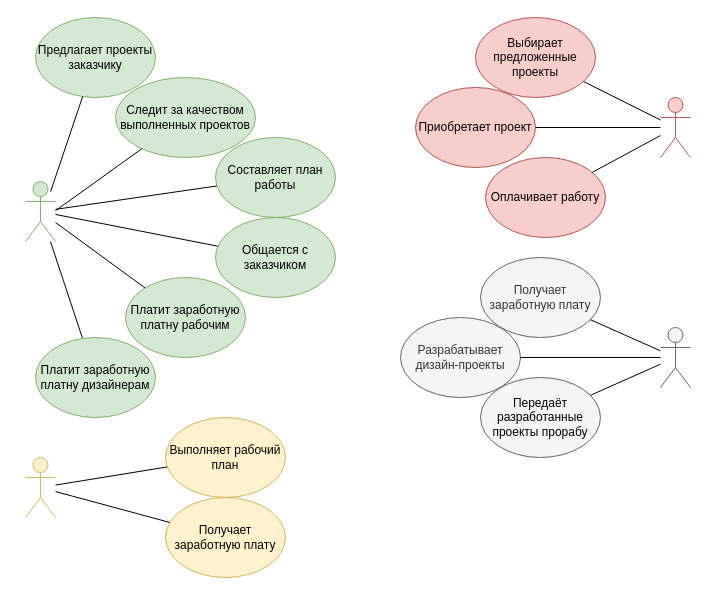
This 720x595 diagram has some shape labels left out. The box of each missing label's shape, as (x1, y1, x2, y2) in pixels:
Дизайнер: (660, 326, 690, 388)
Заказчик: (660, 96, 690, 158)
Прораб: (24, 180, 56, 242)
Рабочий: (24, 456, 56, 518)
